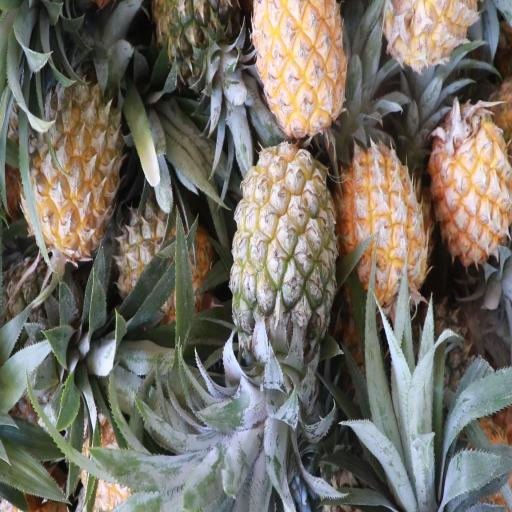------------------------------: (231, 143, 336, 362), (117, 197, 212, 324)
Pineapple - v8 v1: (23, 71, 119, 250), (432, 100, 512, 265), (343, 140, 427, 296), (257, 0, 352, 126)
